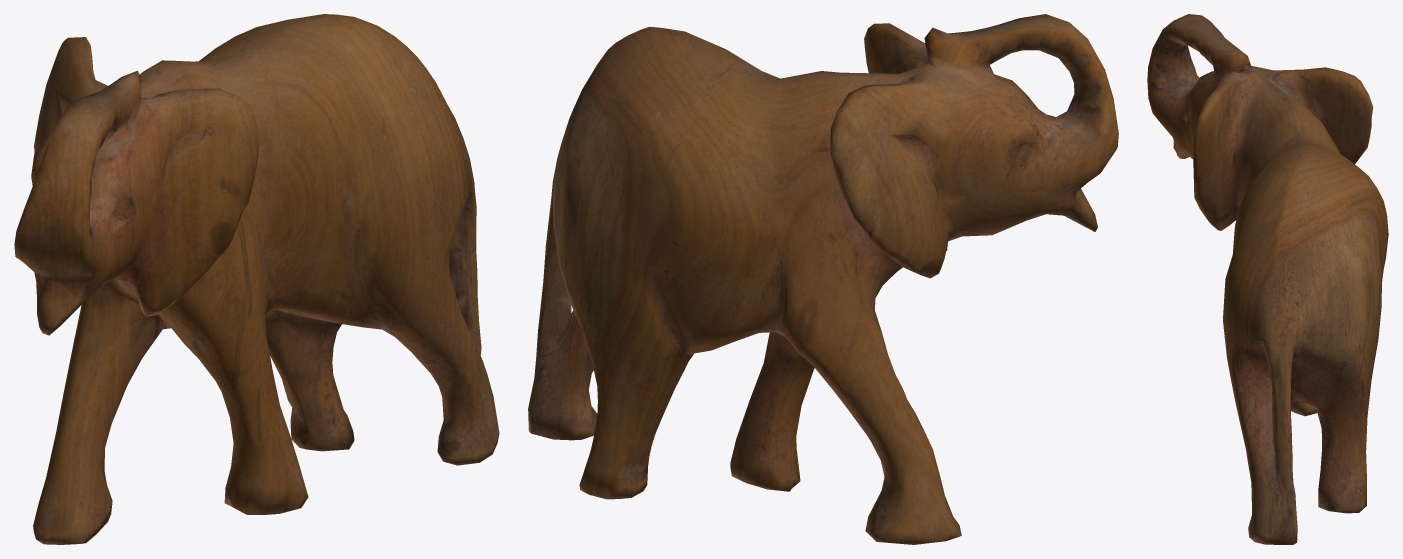
The model's file is carved_wooden_elephant.glb.
3 views of the same model, side by side, from view 1: azimuth 30°, elevation 25°; view 2: azimuth 150°, elevation 25°; view 3: azimuth 270°, elevation 25° (orthographic). The views are drawn at different scales.
Parts seen in each view (by area): view 1: carved_wooden_elephant; view 2: carved_wooden_elephant; view 3: carved_wooden_elephant.
Part boxes in pixels (box(x1,y1,x2,y2)): carved_wooden_elephant: box(14, 14, 499, 544); carved_wooden_elephant: box(528, 14, 1118, 544); carved_wooden_elephant: box(1147, 14, 1388, 544).
Bounding box in the file's own units: 0.1092 × 0.0961 × 0.0576.
1 material, 1 textured.
